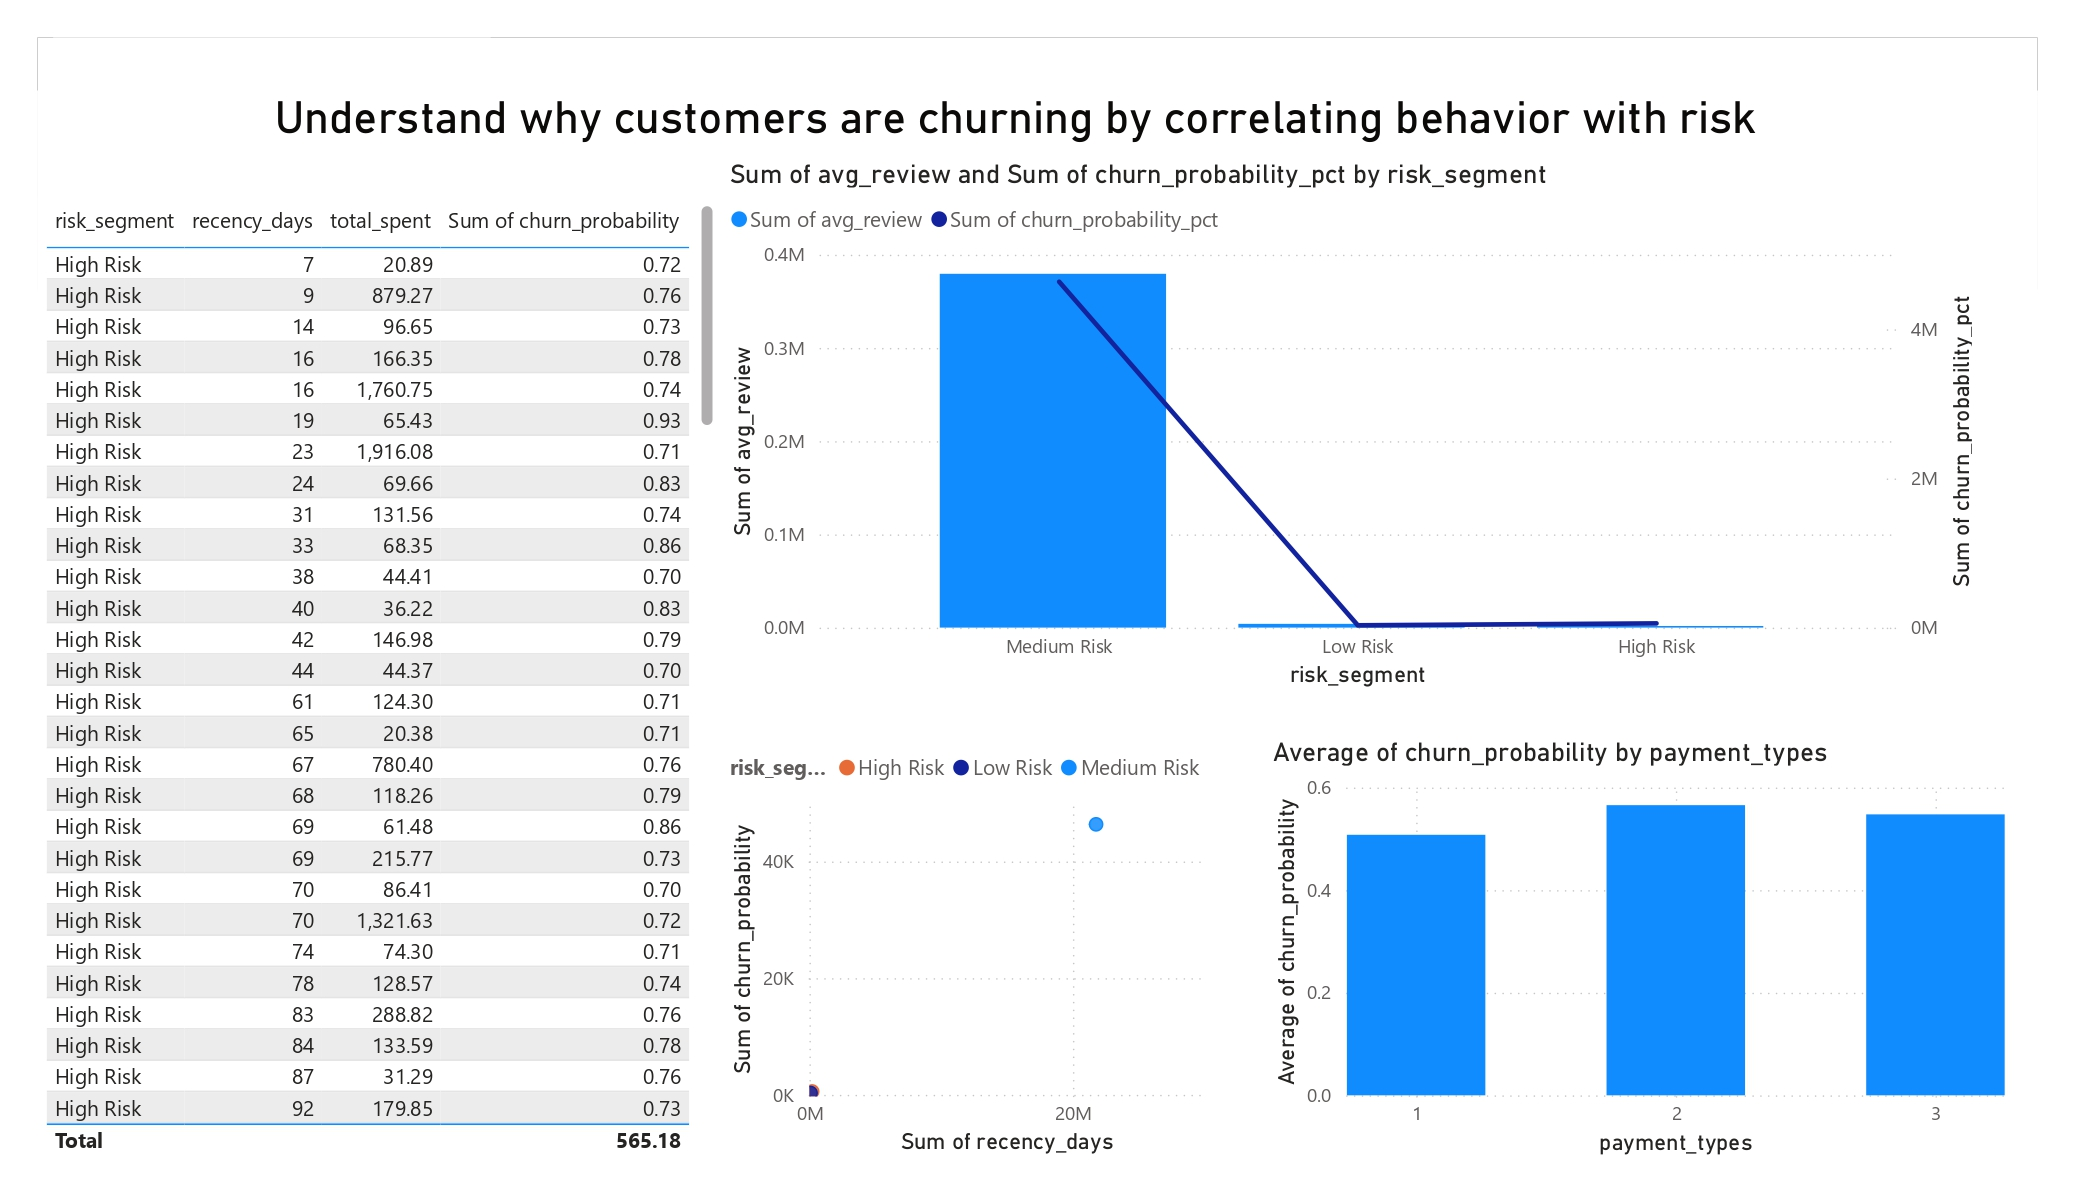

The page's visual inventory and layout, read from the dashboard file:
{"tool":"powerbi","page":{"name":"Risk Analysis & Drivers","canvas":[1280,720],"ordinal":1},"visuals":[{"type":"textbox","box":[10,0,280,280],"z":0},{"type":"textbox","box":[8.9,28.9,1234.4,47.8],"z":1000},{"type":"tableEx","fields":{"Values":["ecommerce_churn_processed_data.risk_segment","ecommerce_churn_processed_data.recency_days","ecommerce_churn_processed_data.total_spent","Sum(ecommerce_churn_processed_data.churn_probability)"]},"box":[0,102.2,437.8,617.8],"z":2000},{"type":"scatterChart","fields":{"X":["Sum(ecommerce_churn_processed_data.recency_days)"],"Y":["Sum(ecommerce_churn_processed_data.churn_probability)"],"Series":["ecommerce_churn_processed_data.risk_segment"]},"box":[437.8,446.7,326.7,273.3],"z":3000},{"type":"lineStackedColumnComboChart","fields":{"Category":["ecommerce_churn_processed_data.risk_segment"],"Y":["Sum(ecommerce_churn_processed_data.avg_review)"],"Y2":["Sum(ecommerce_churn_processed_data.churn_probability_pct)"]},"box":[437.8,76.7,805.6,344.4],"z":3001},{"type":"columnChart","fields":{"Category":["ecommerce_churn_processed_data.payment_types"],"Y":["Avg(ecommerce_churn_processed_data.churn_probability)"]},"box":[785.6,446.7,478.9,273.3],"z":3002}]}

Visuals, with their boxes on the page's 1280x720 design canvas (x1, y1, x2, y2). These are canvas units, not pixel positions in the 2075x1200 screenshot, which may show the page scaled, cropped or inside an application window:
textbox: [left=10, top=0, right=290, bottom=280]
textbox: [left=9, top=29, right=1243, bottom=77]
tableEx - ecommerce_churn_processed_data.risk_segment x ecommerce_churn_processed_data.recency_days: [left=0, top=102, right=438, bottom=720]
scatterChart - Sum(ecommerce_churn_processed_data.recency_days) x Sum(ecommerce_churn_processed_data.churn_probability): [left=438, top=447, right=764, bottom=720]
lineStackedColumnComboChart - ecommerce_churn_processed_data.risk_segment x Sum(ecommerce_churn_processed_data.avg_review): [left=438, top=77, right=1243, bottom=421]
columnChart - ecommerce_churn_processed_data.payment_types x Avg(ecommerce_churn_processed_data.churn_probability): [left=786, top=447, right=1264, bottom=720]
